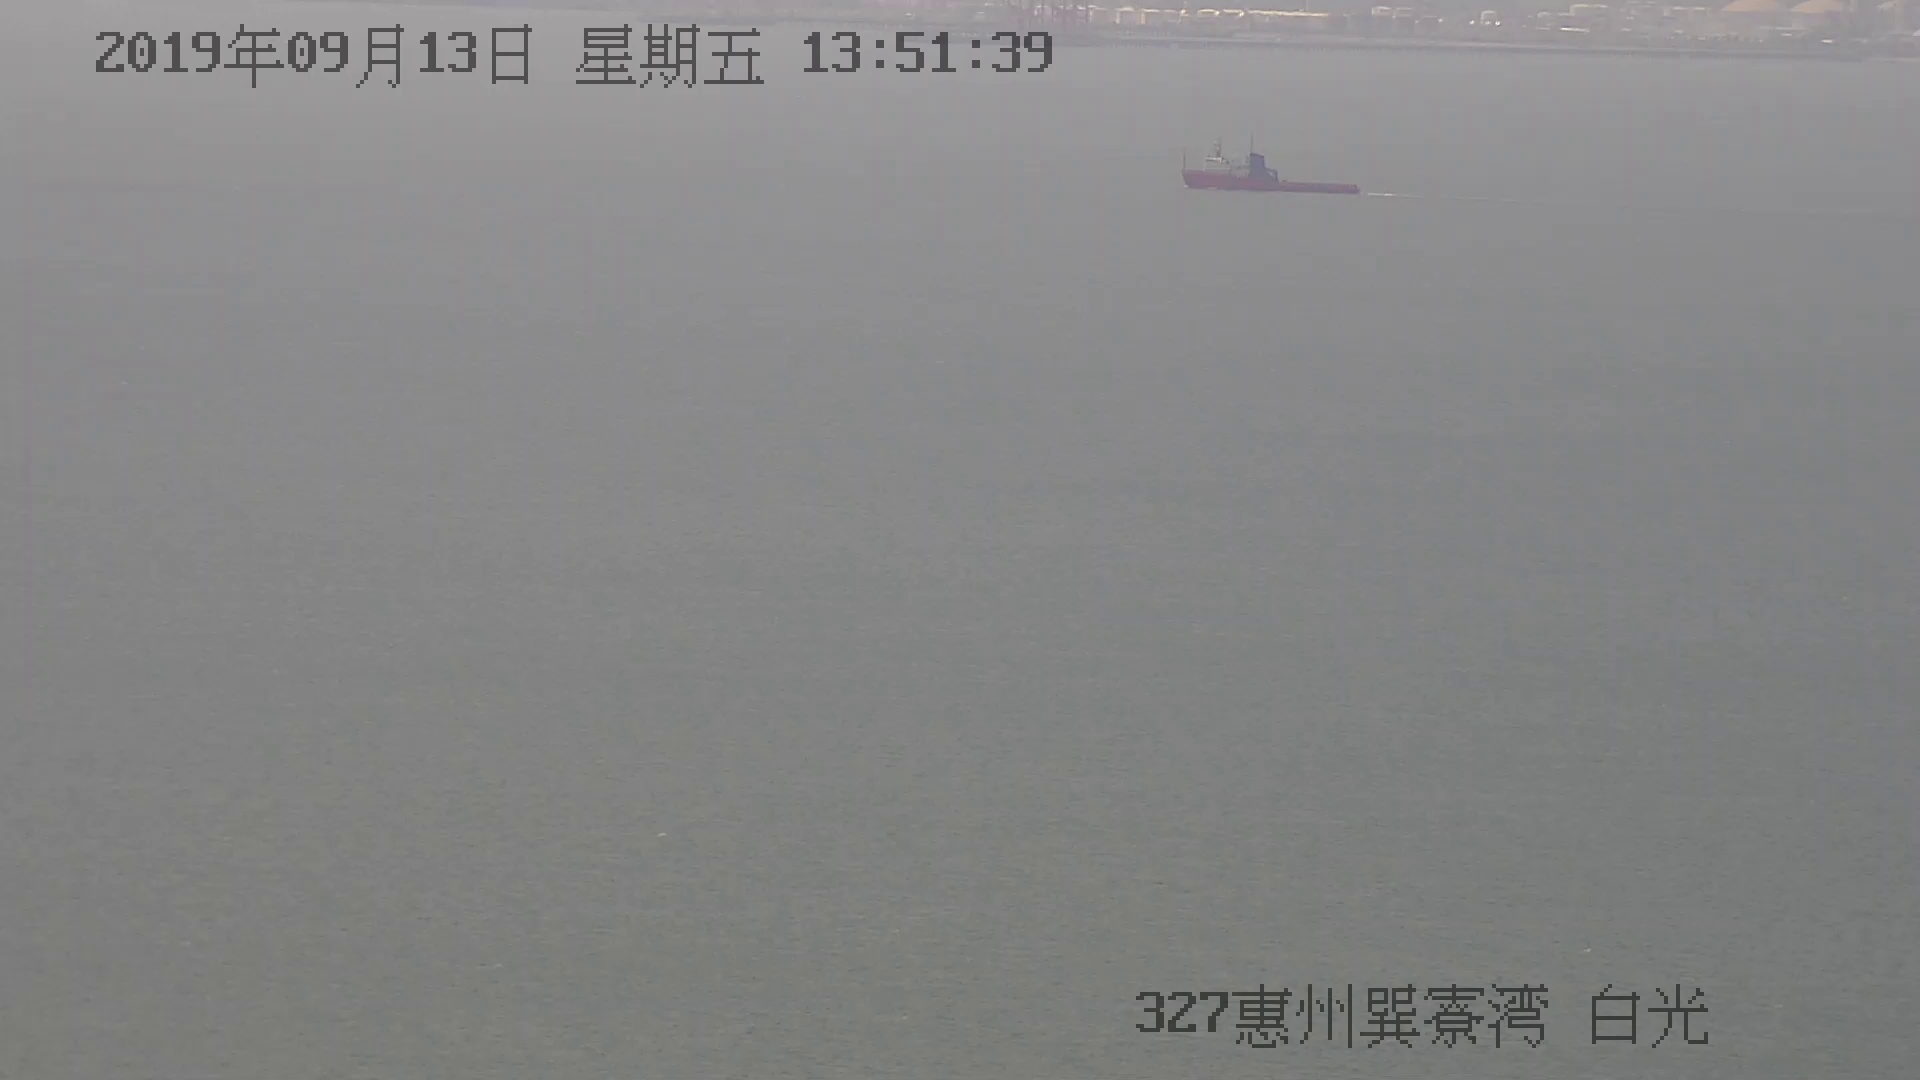ship: (1180, 137, 1358, 196)
